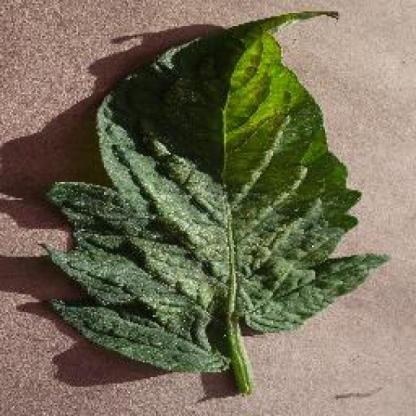Tomato_Spider_Mites: (44, 10, 389, 371)
